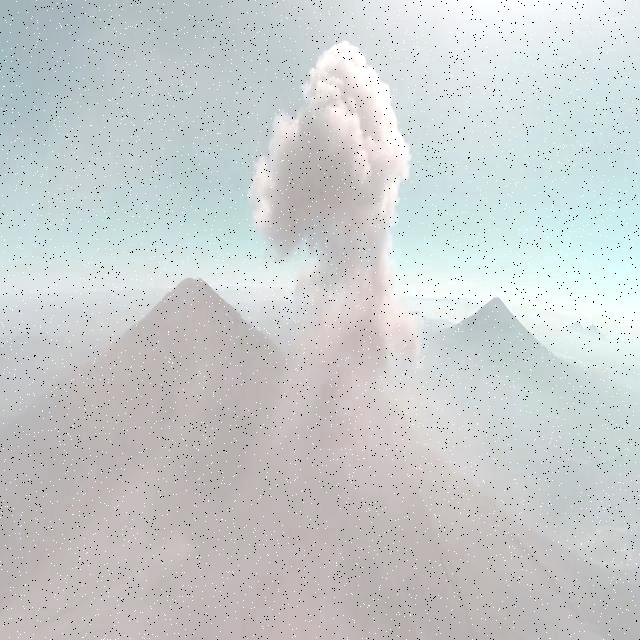Plume: (245, 28, 430, 410)
